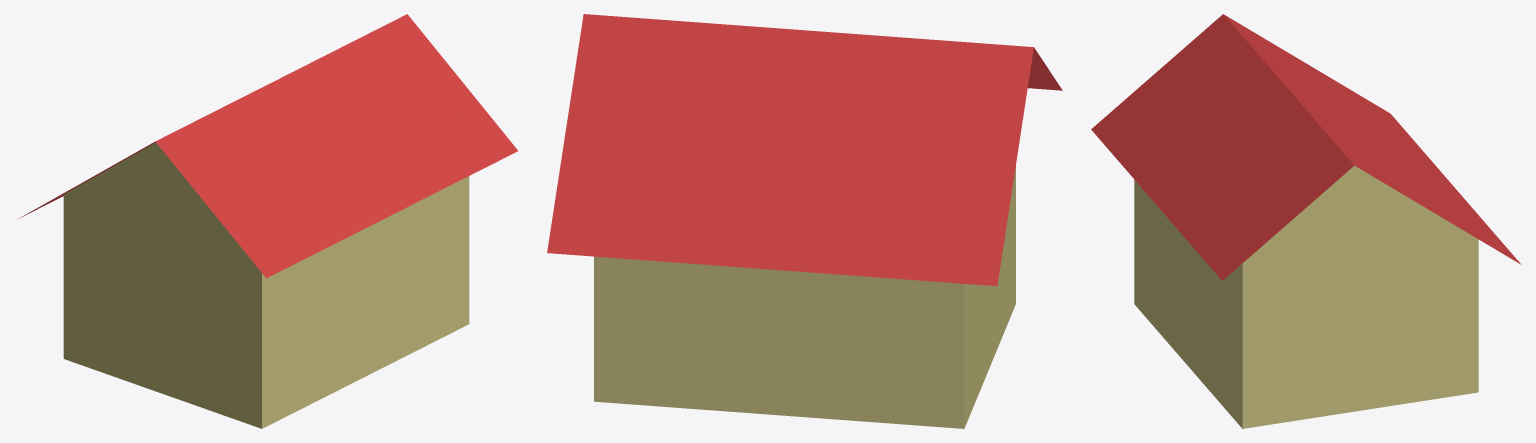
3 renders of one model, left to right at view 1: azimuth 30°, elevation 25°; view 2: azimuth 150°, elevation 25°; view 3: azimuth 270°, elevation 25°, orthographic. The views are drawn at different scales.
Bounding box in the file's own units: 20.75 × 19.1 × 12.78.
